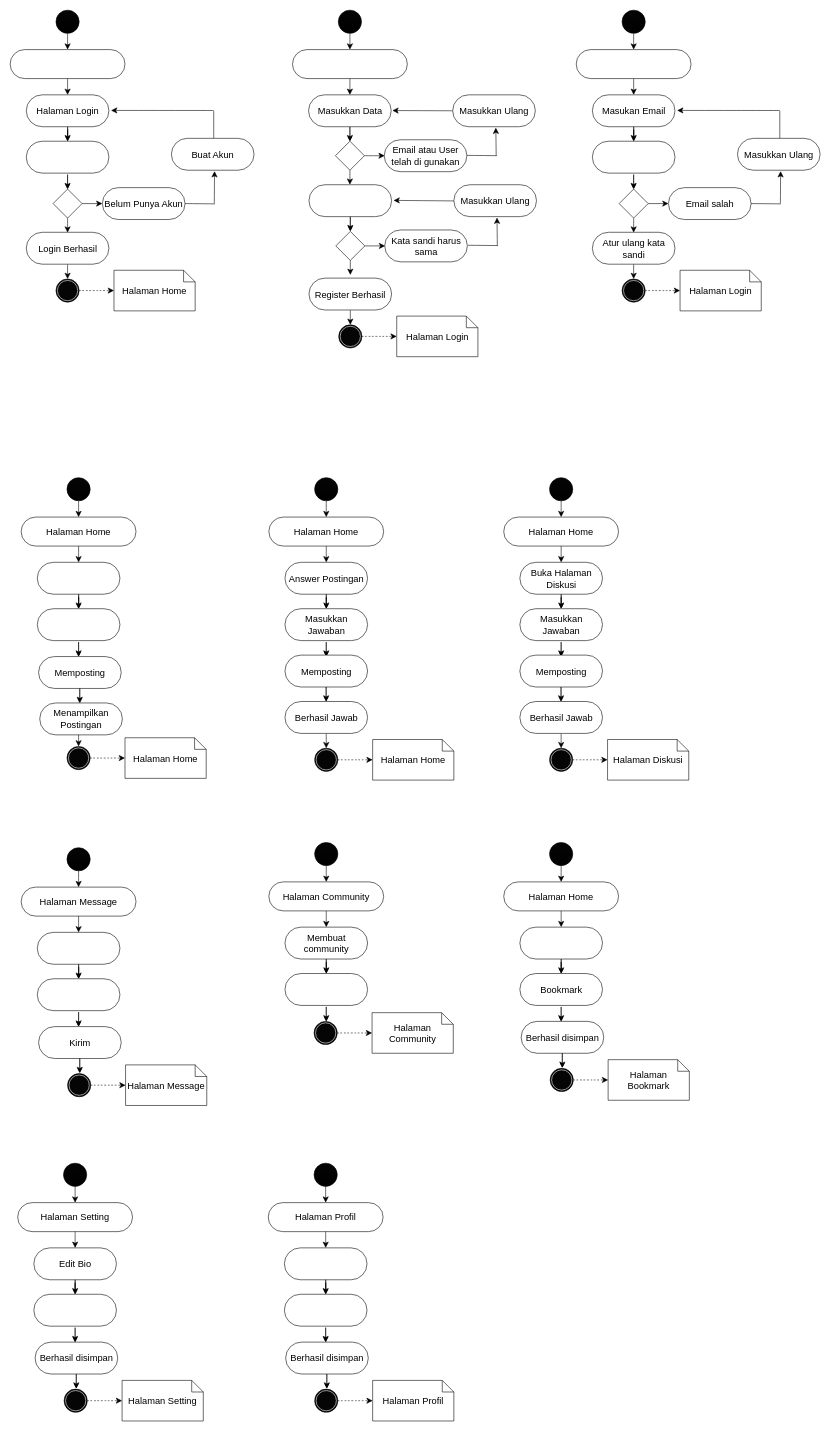
This 831x1431 diagram has some shape labels left out. The centre of each missing label's shape, as x and y in pixels:
Buat kata sandi: (x=350, y=200)
Buka menu posting: (x=78, y=578)
Cari User: (x=78, y=948)
Halaman Landing Page: (x=67, y=64)
Halaman Lupa Kata Sandi: (x=633, y=64)
Halanan Buat Akun: (x=349, y=64)
Hapus Postingan, dll: (x=325, y=1310)
Masukkan Akun: (x=67, y=157)
Membuat Postingan: (x=78, y=624)
Menampilkan Postingan User: (x=325, y=1263)
Mulai Chat: (x=78, y=994)
Mulai Diskusi dengan banyak orang: (x=326, y=989)
Pilih postingan: (x=561, y=943)
Ubah Foto: (x=74, y=1310)
Verivikasi: (x=633, y=157)
